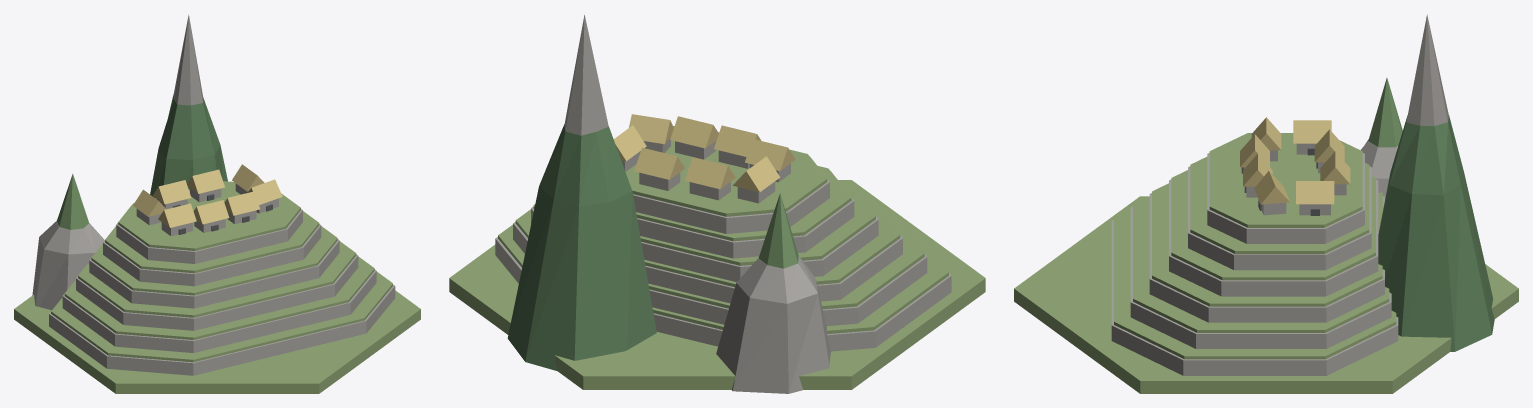
File: machu-picchu.glb
3 views of the same model, side by side, from view 1: azimuth 30°, elevation 25°; view 2: azimuth 150°, elevation 25°; view 3: azimuth 270°, elevation 25° (orthographic). The views are drawn at different scales.
Visible parts, largest first — view 1: LOD0; view 2: LOD0; view 3: LOD0.
Boxes of the visible parts, bbox=[...] form: LOD0: bbox=[14, 14, 420, 393]; LOD0: bbox=[449, 15, 985, 393]; LOD0: bbox=[1014, 14, 1518, 393].
Size of what is drawn, in the model's own units: 1.52 by 1.19 by 1.76.
